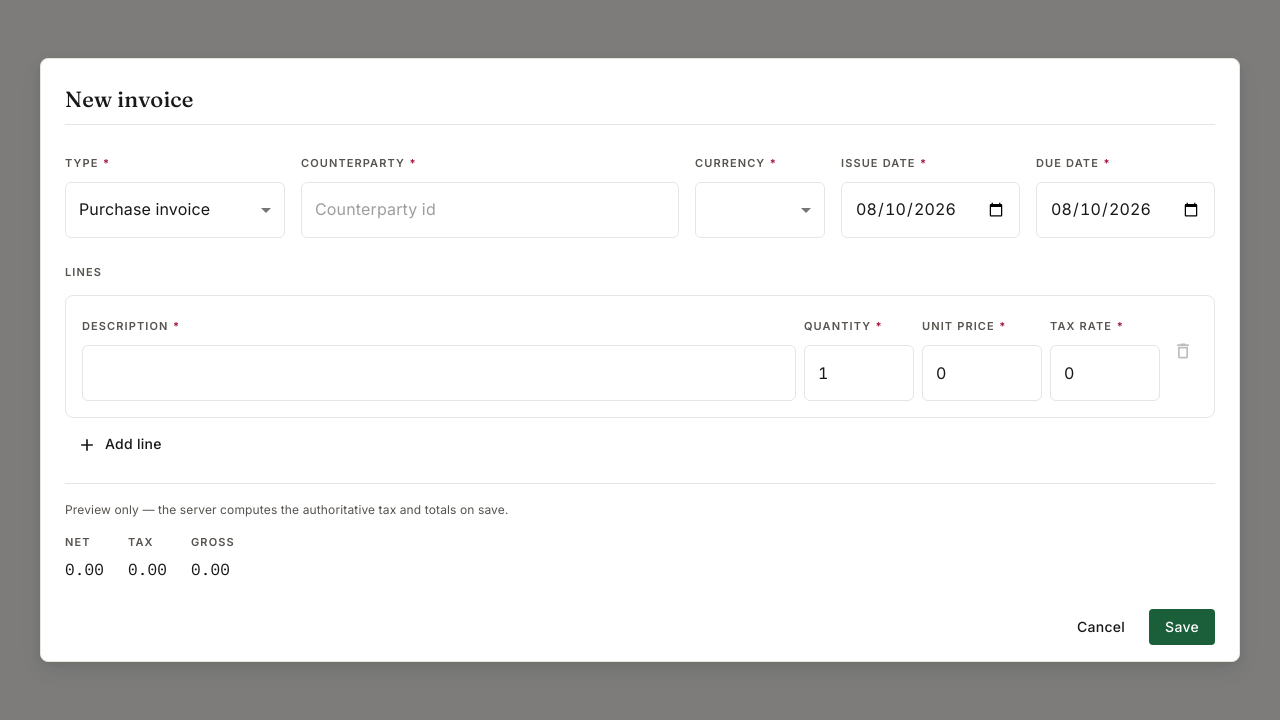
Scenario: InvoiceFormDialog (SDD-UI-FIN-001 §2.4, §2.5) › InvoiceForm_MissingCounterparty_ShowsCounterpartyRequired
The width and height of the screenshot is (1280, 720).
What coordinates should you click on to do the following:
click the button "Save"
I would click on:
 (1182, 627)
Its box is [1149,609,1215,646].
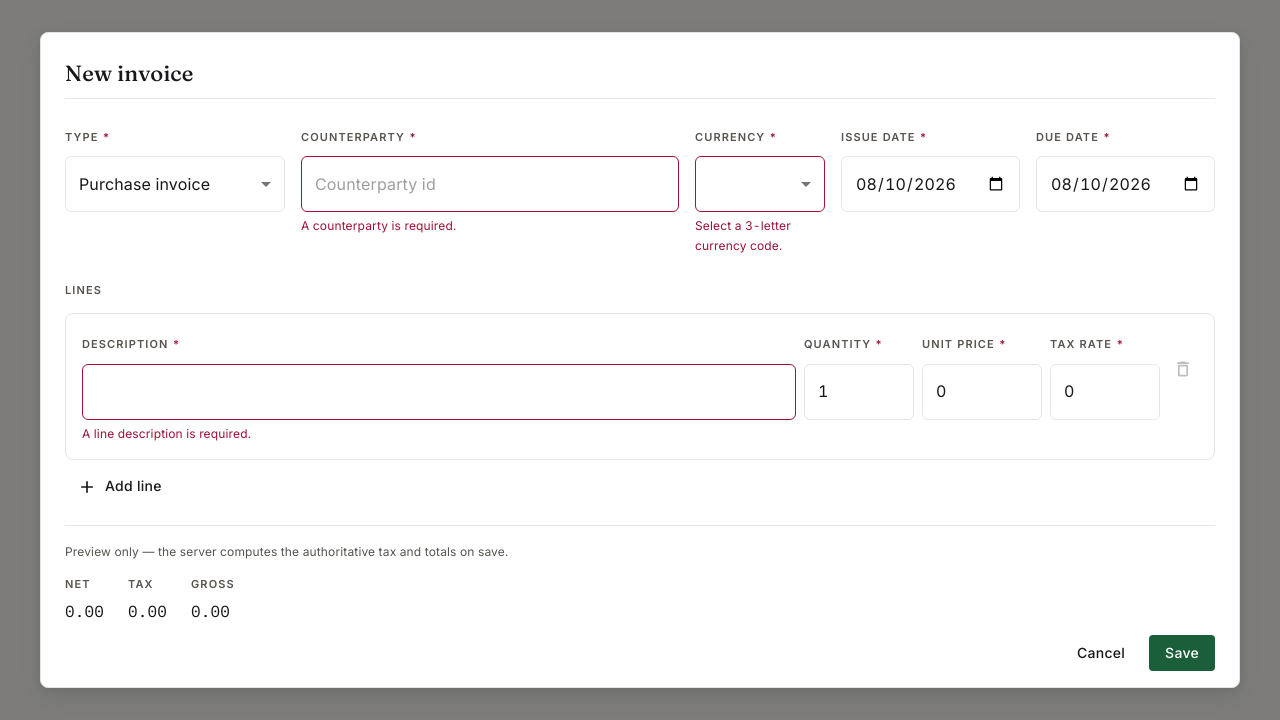
Expected: the text "A counterparty is required." is shown, [301,218,456,233]
